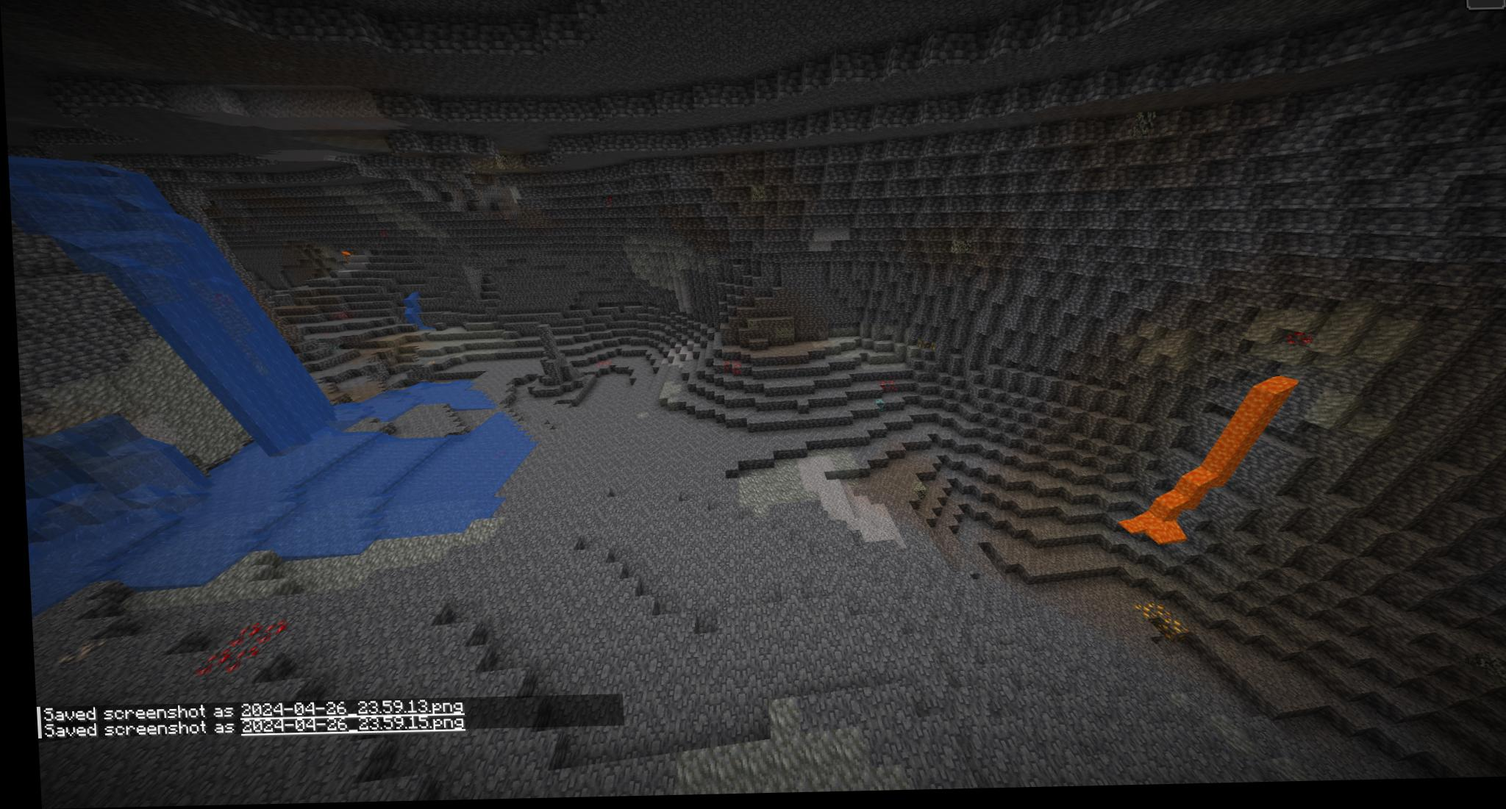diamond ore: (868, 398, 885, 419)
gold ore: (1122, 599, 1185, 652)
iron ore: (44, 641, 99, 671)
redstone ore: (188, 618, 283, 681), (714, 361, 741, 382), (871, 380, 901, 398)
